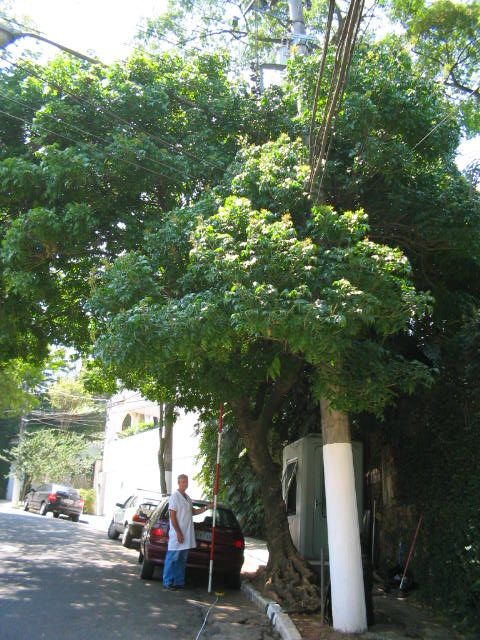crown: (3, 34, 475, 423)
stem: (233, 429, 328, 612)
stick: (202, 404, 227, 598)
tree: (1, 33, 476, 614)
